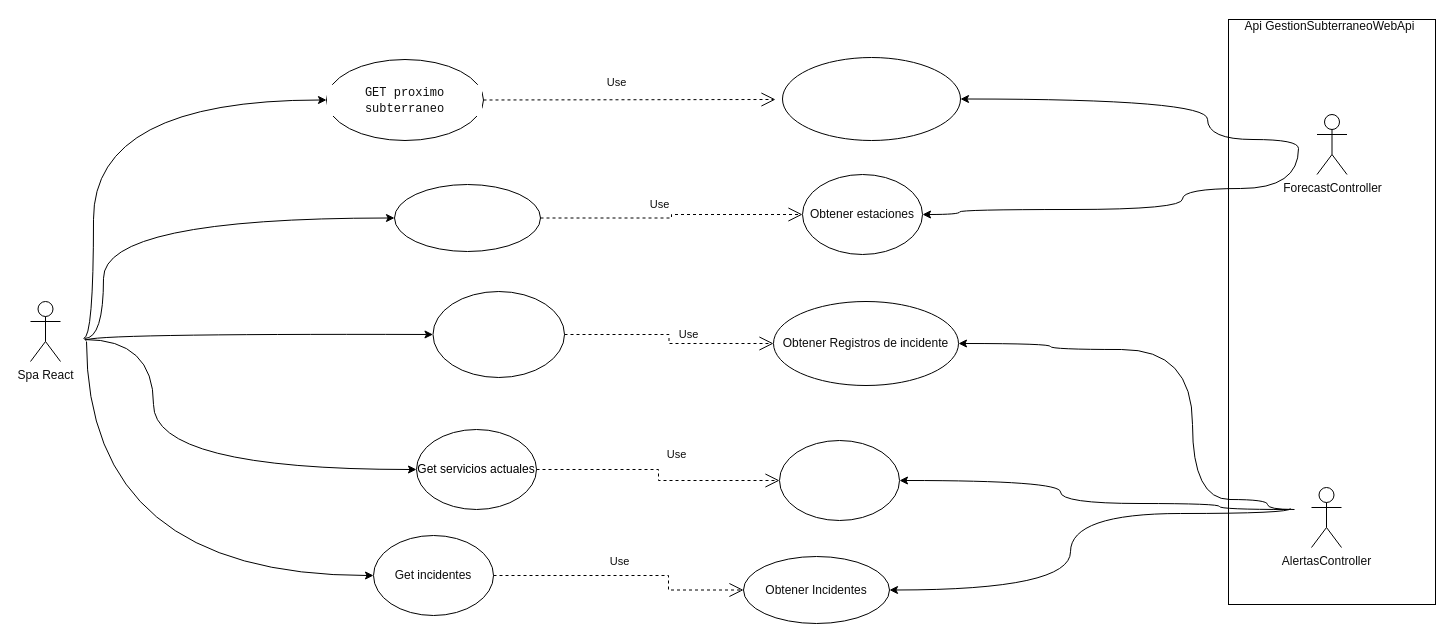
Some shapes in this 1453 by 641 pixel diagram are drawn without their labels. The shapes that lost their labels are listed below. From the top down, each one's centre as x and y in pixels, then its label:
the point at 871,98: Obtener proximo subterraneo
the point at 467,218: Get estaciones
the point at 498,334: GET Registro incidente
the point at 839,480: Obtener servicios actuales
